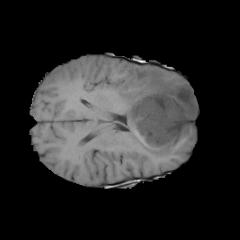glioma: (113, 66, 197, 157)
